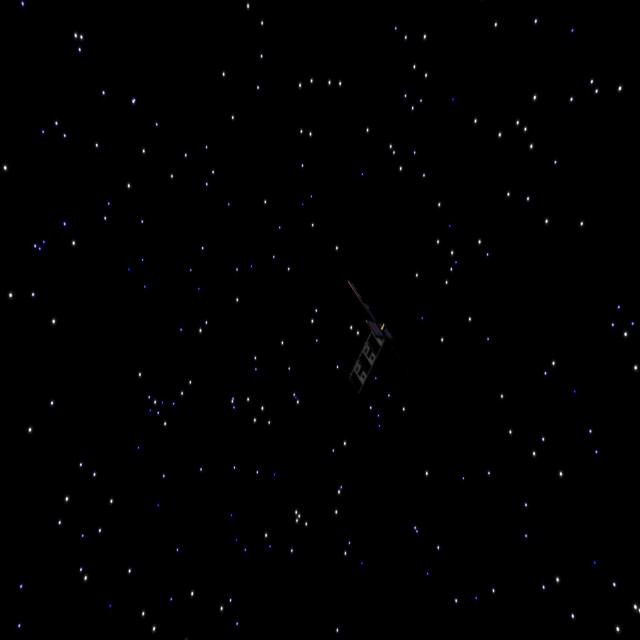medium_debris: (339, 273, 408, 391)
